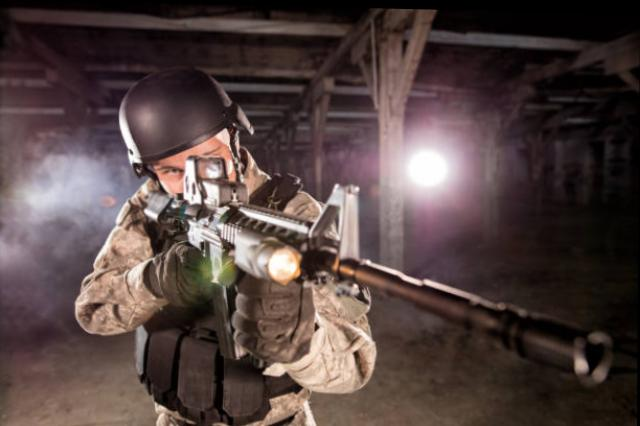other: (77, 69, 374, 424)
